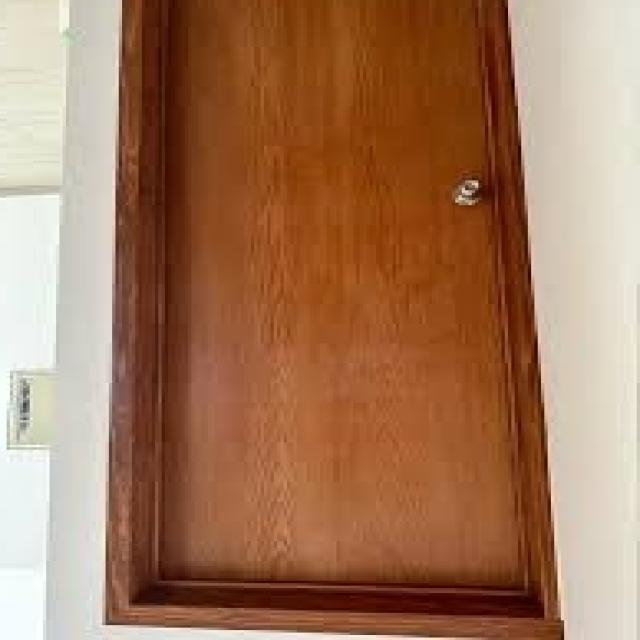door: (115, 1, 558, 634)
